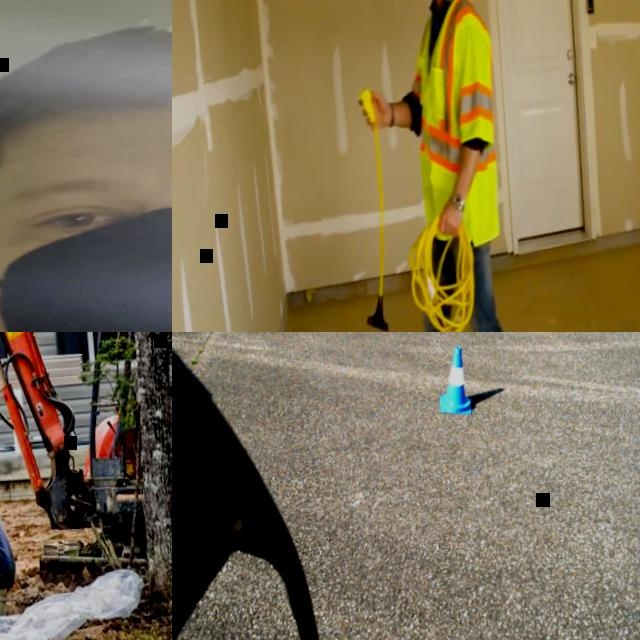Mask: (0, 207, 172, 332)
NO-Hardhat: (0, 2, 172, 158)
Person: (333, 0, 545, 332), (0, 0, 172, 332)
Safety Cone: (435, 344, 473, 416)
Safety Vest: (403, 0, 506, 190)
machinery: (0, 332, 172, 618)
